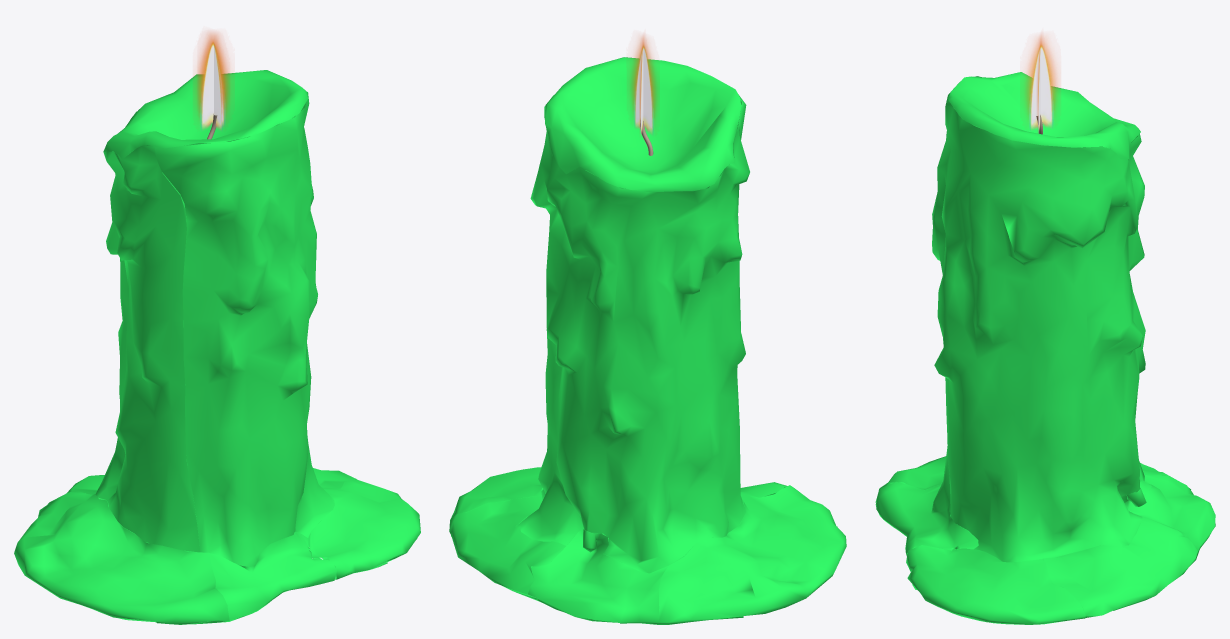
The model's file is XCandleAnimatedFlame.glb.
3 views of the same model, side by side, from view 1: azimuth 30°, elevation 25°; view 2: azimuth 150°, elevation 25°; view 3: azimuth 270°, elevation 25° (orthographic).
Visible parts, largest first — view 1: Candle.000, FLAME; view 2: Candle.000, FLAME; view 3: Candle.000, FLAME.
Part boxes in pixels (bbox=[...]): Candle.000: bbox=[14, 70, 420, 624]; FLAME: bbox=[195, 31, 230, 130]; Candle.000: bbox=[449, 57, 846, 624]; FLAME: bbox=[630, 34, 657, 134]; Candle.000: bbox=[875, 72, 1215, 624]; FLAME: bbox=[1024, 33, 1058, 131].
Bounding box in the file's own units: 2.61 × 3.62 × 2.17.
Materials: 3 (1 with a texture image).
